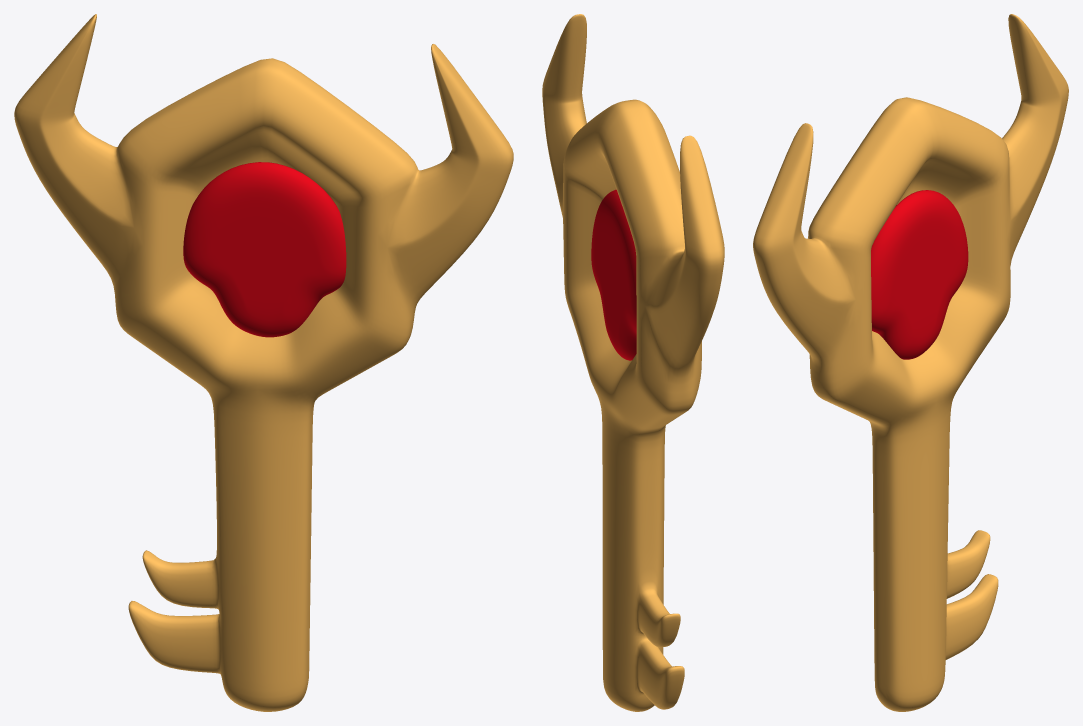
The model's file is key_red.glb.
3 views of the same model, side by side, from view 1: azimuth 30°, elevation 25°; view 2: azimuth 150°, elevation 25°; view 3: azimuth 270°, elevation 25° (orthographic). The views are drawn at different scales.
Parts seen in each view (by area): view 1: key_primitive0, key_primitive1; view 2: key_primitive0, key_primitive1; view 3: key_primitive0, key_primitive1.
Boxes of the visible parts, x1=… form: key_primitive0: x1=14, y1=14, x2=513, y2=711; key_primitive1: x1=183, y1=162, x2=346, y2=337; key_primitive0: x1=542, y1=14, x2=724, y2=711; key_primitive1: x1=591, y1=189, x2=636, y2=360; key_primitive0: x1=753, y1=14, x2=1068, y2=711; key_primitive1: x1=871, y1=190, x2=968, y2=359.
Bounding box in the file's own units: 2.61 × 4.95 × 2.21.
